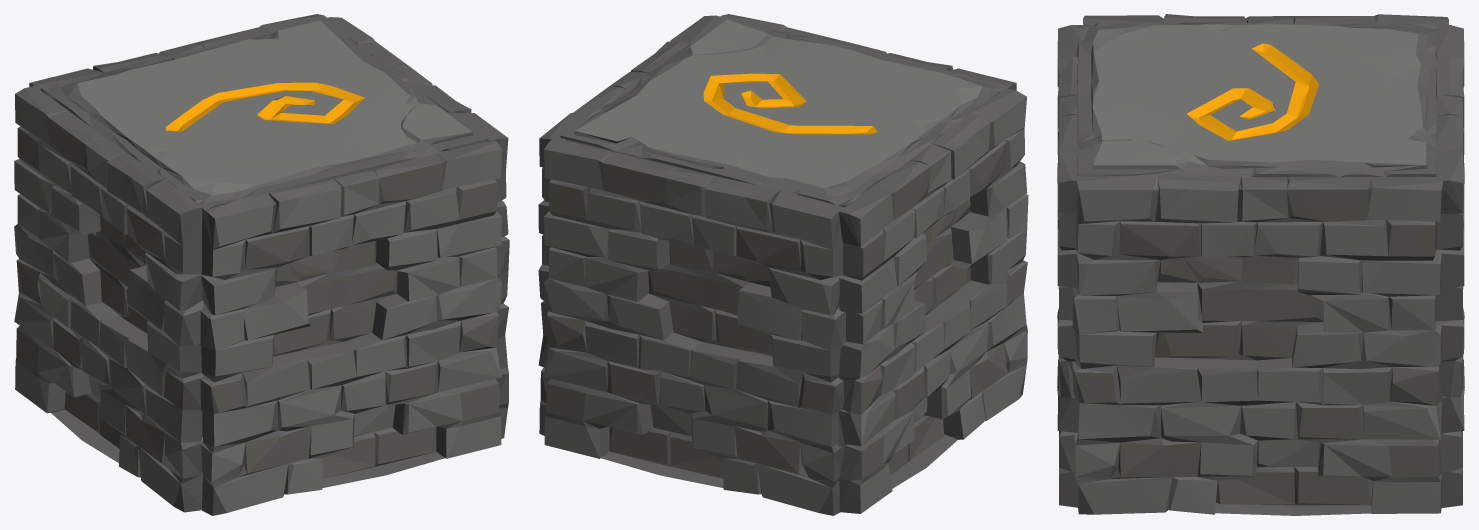
Rendered from SM_Env_Tiles_D_01.glb.
3 views of the same model, side by side, from view 1: azimuth 30°, elevation 25°; view 2: azimuth 150°, elevation 25°; view 3: azimuth 270°, elevation 25° (orthographic). The views are drawn at different scales.
Visible parts, largest first — view 1: SM_Env_Tiles_D_01; view 2: SM_Env_Tiles_D_01; view 3: SM_Env_Tiles_D_01.
Boxes of the visible parts, <box> form: SM_Env_Tiles_D_01: <box>14,14,509,515</box>; SM_Env_Tiles_D_01: <box>538,14,1028,515</box>; SM_Env_Tiles_D_01: <box>1057,14,1464,515</box>.
Size of the model in its own units: 5.74 by 5.2 by 5.68.
1 material, 1 textured.
